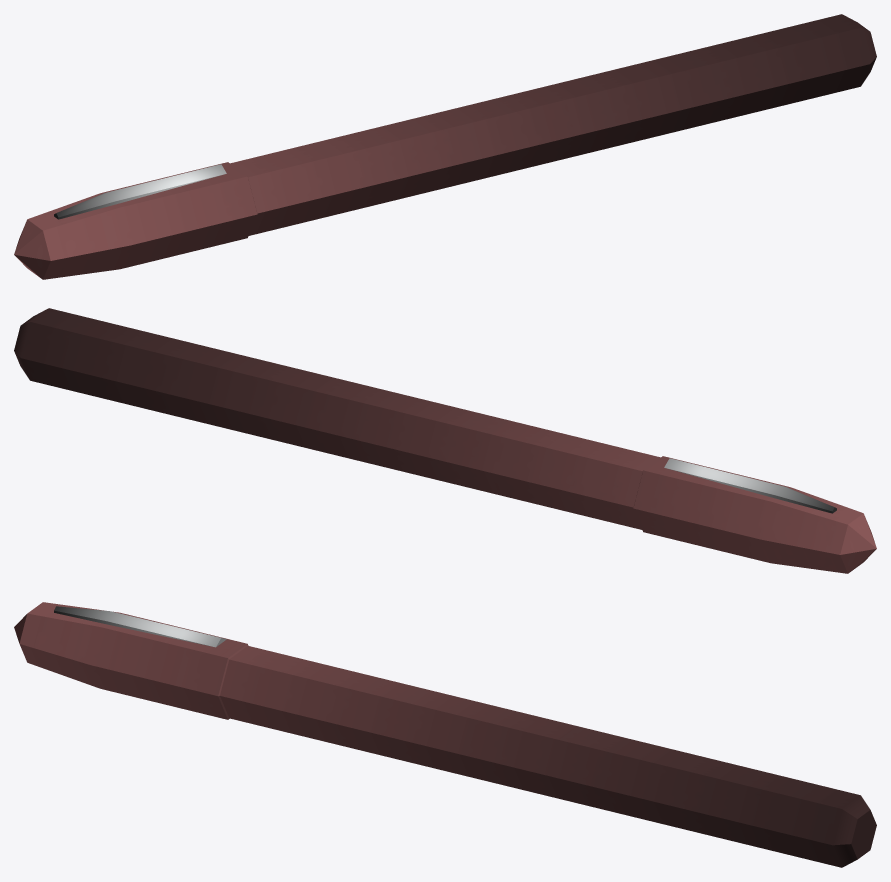
File: PenClosed.fbx
3 views of the same model, one above another, from view 1: azimuth 30°, elevation 25°; view 2: azimuth 150°, elevation 25°; view 3: azimuth 330°, elevation 25° (orthographic).
Visible parts, largest first — view 1: PenClosed; view 2: PenClosed; view 3: PenClosed.
Part boxes in pixels (x1,y1,x2,y2): PenClosed: (14,14,876,279); PenClosed: (14,308,876,573); PenClosed: (14,602,876,867).
Size of the model in its own units: 13.24 by 1.05 by 1.06.
